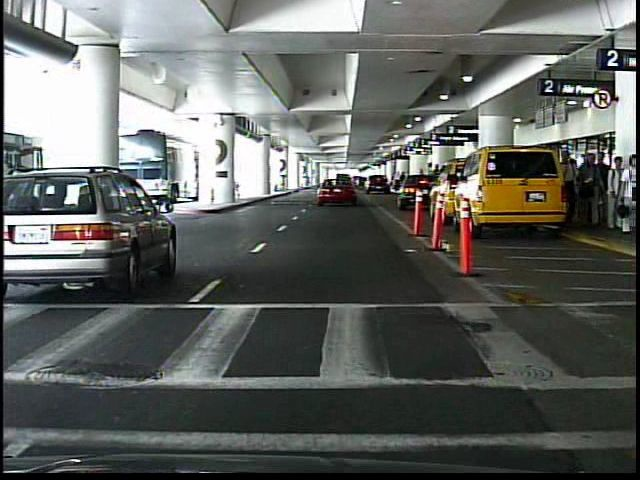person: (613, 154, 637, 232)
